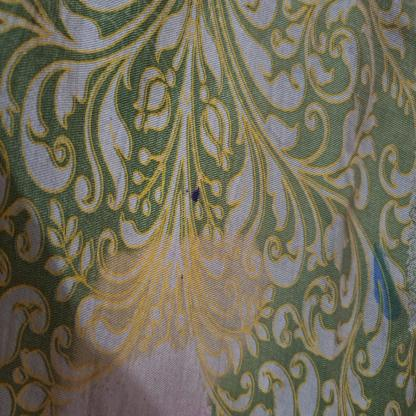spot: (365, 218, 408, 340), (184, 174, 202, 212), (178, 270, 190, 285)
